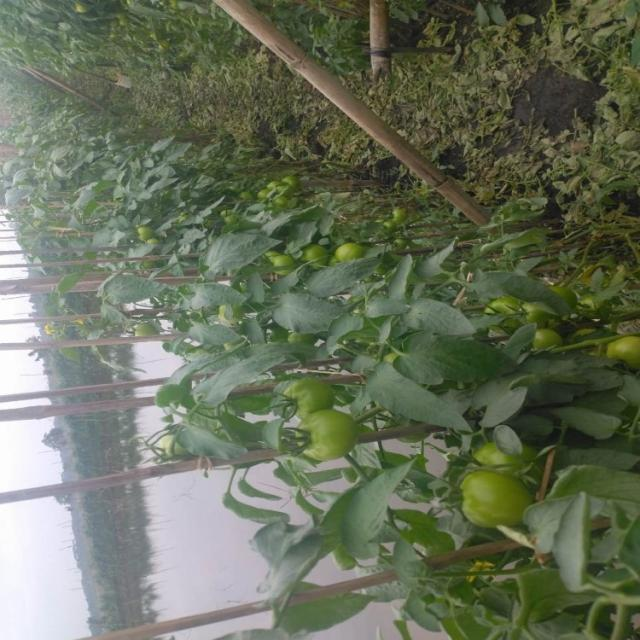tomato: (460, 427, 553, 502), (289, 404, 373, 470), (462, 462, 531, 541), (281, 370, 341, 421), (527, 324, 569, 365), (610, 338, 640, 384), (117, 321, 159, 352), (257, 181, 295, 214), (334, 237, 367, 271), (207, 307, 242, 334), (157, 425, 189, 454), (375, 203, 409, 229), (295, 242, 328, 267), (133, 213, 155, 241), (269, 253, 294, 277)
